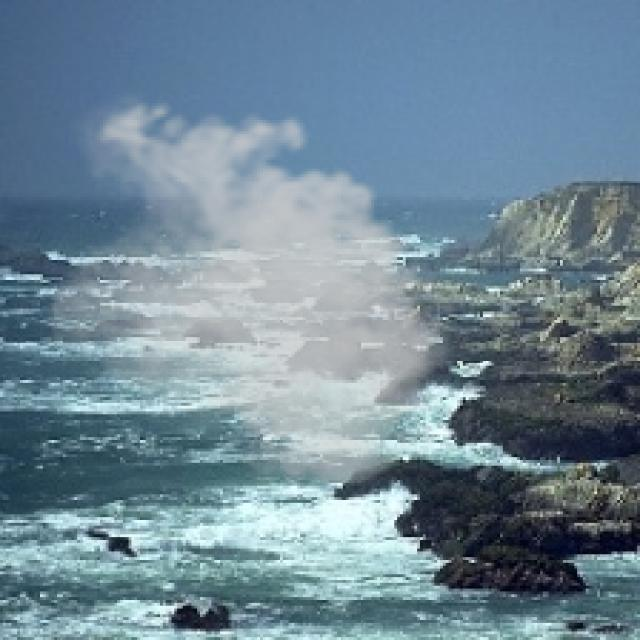Smoke: (48, 88, 466, 494)
